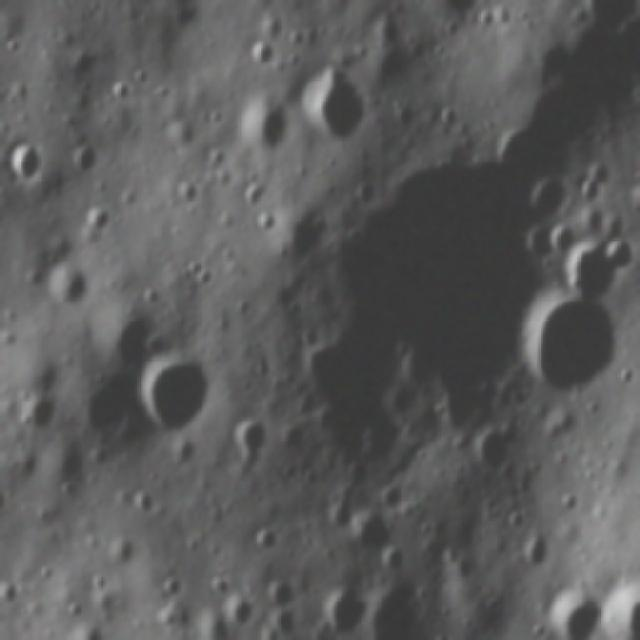crater: (286, 136, 540, 422), (512, 298, 614, 422), (130, 340, 215, 438), (294, 58, 374, 153), (73, 369, 145, 445), (565, 234, 633, 304), (38, 256, 96, 330), (235, 99, 294, 164), (348, 506, 407, 565), (322, 581, 376, 640), (12, 389, 73, 438), (57, 138, 100, 196), (0, 138, 49, 188), (224, 418, 273, 468), (543, 609, 605, 640), (238, 35, 278, 79)
